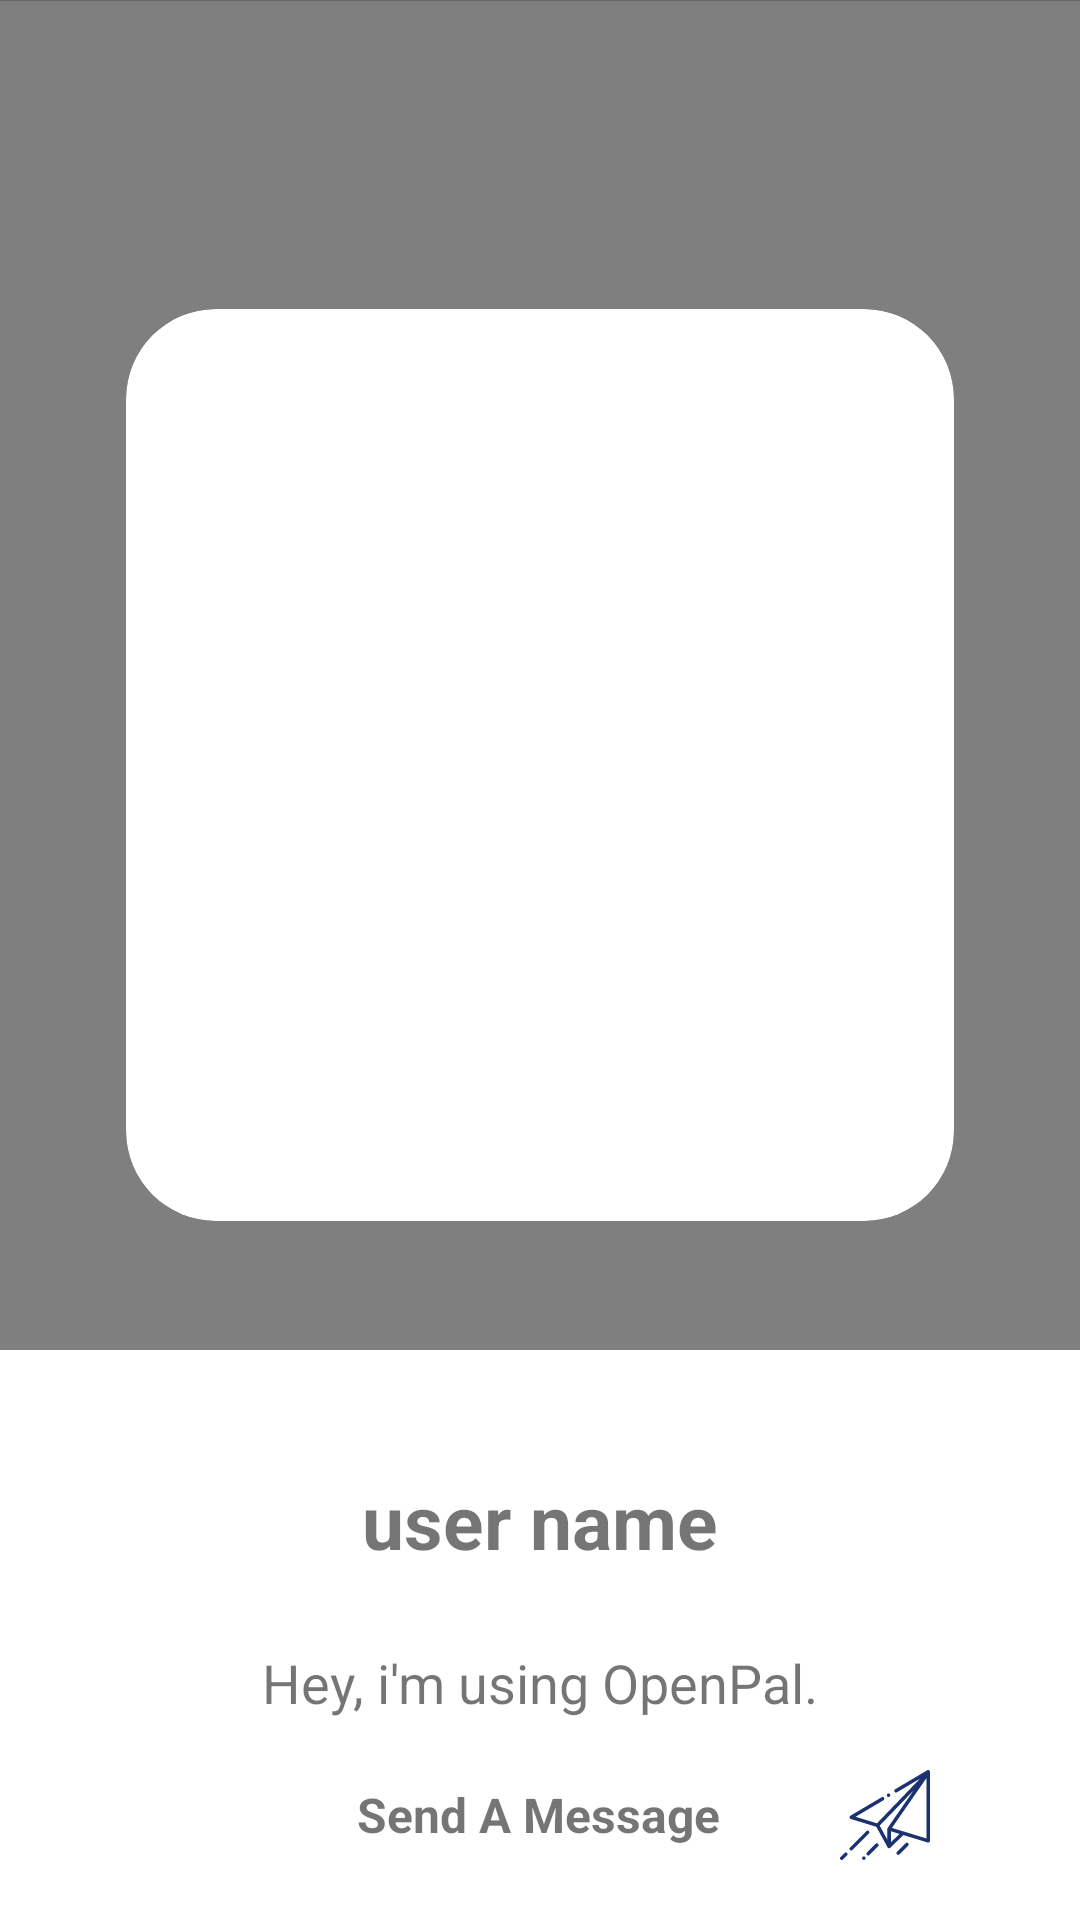

Screen size 1080*1920. Icon name, then its center in pixels as [x,y]:
paper plane: [885,1815]
